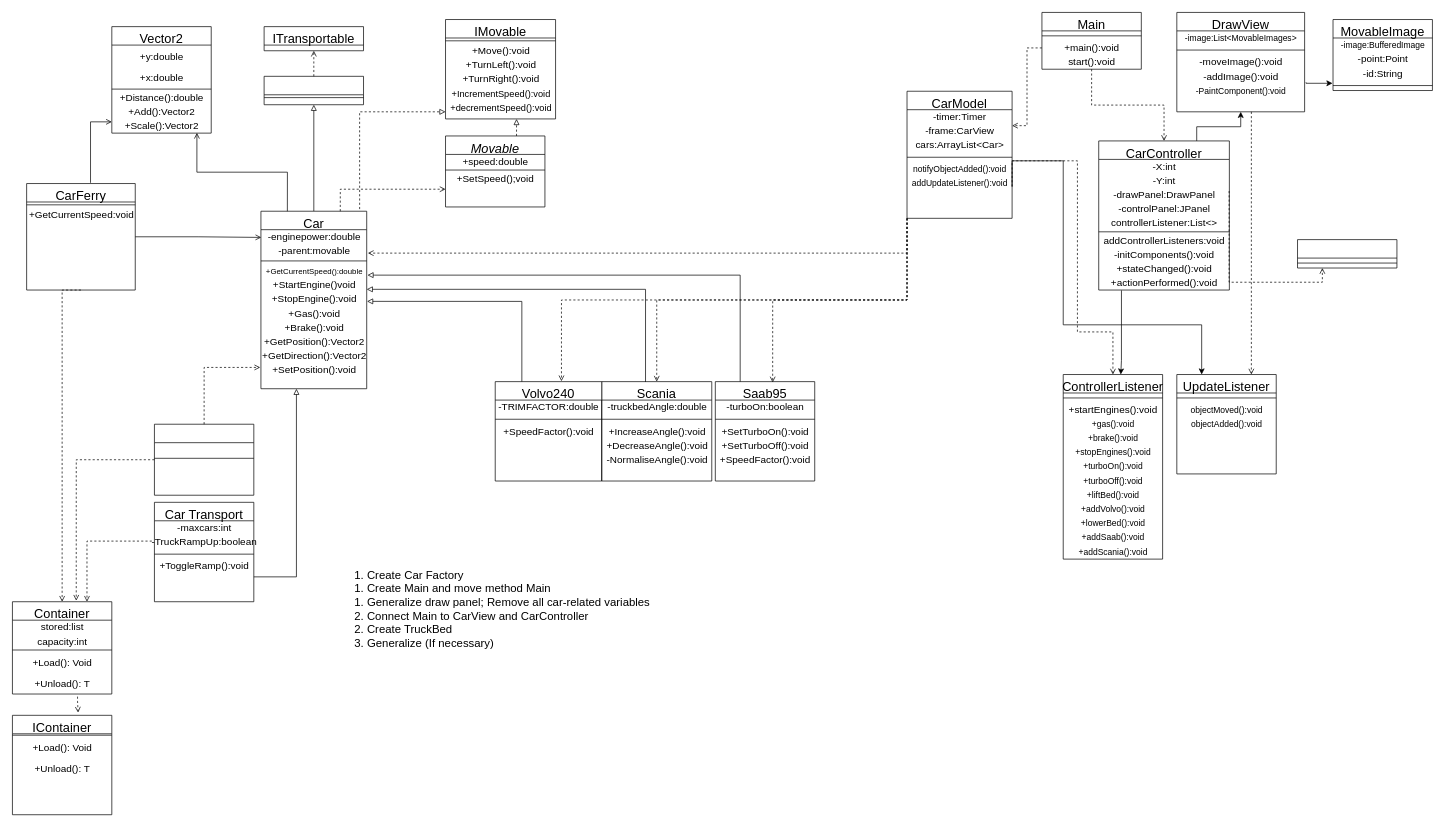
This 1445x827 diagram has some shape labels left out. The shapes that lost their labels are listed below. From the top down, each one's centre as x and y in pixels, then its label:
At [313,90]: "Transportable".
At [1347,253]: "Swing".
At [204,459]: "Workshop".
